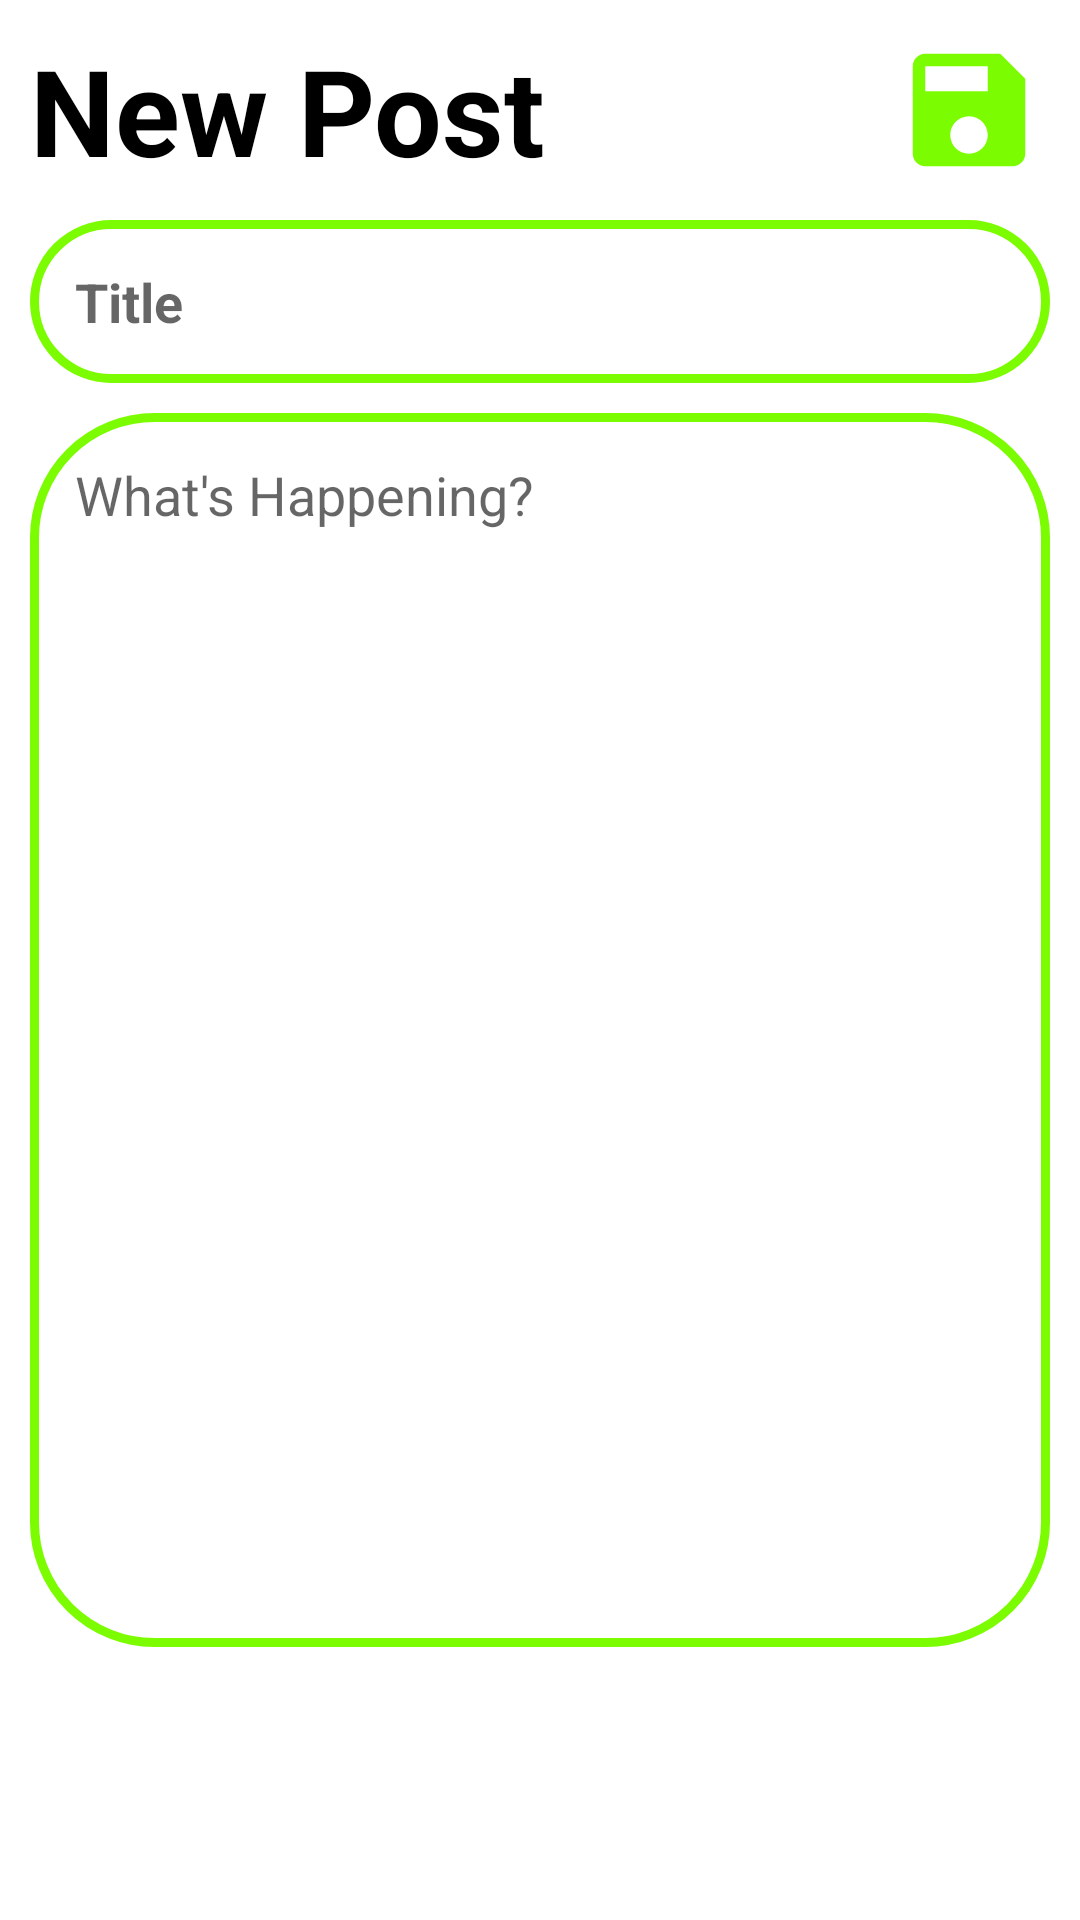

Icon click points for this 1080×1920 phone screenshot, format (x,y):
save: (969,110)
